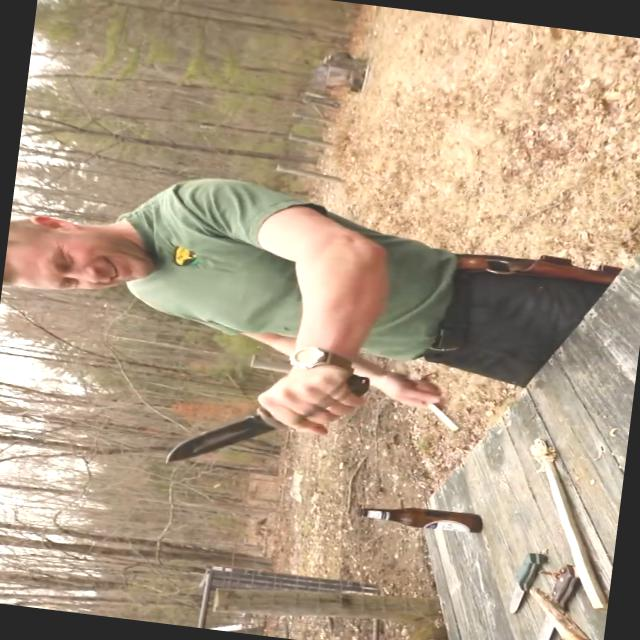knife: (140, 351, 368, 493)
